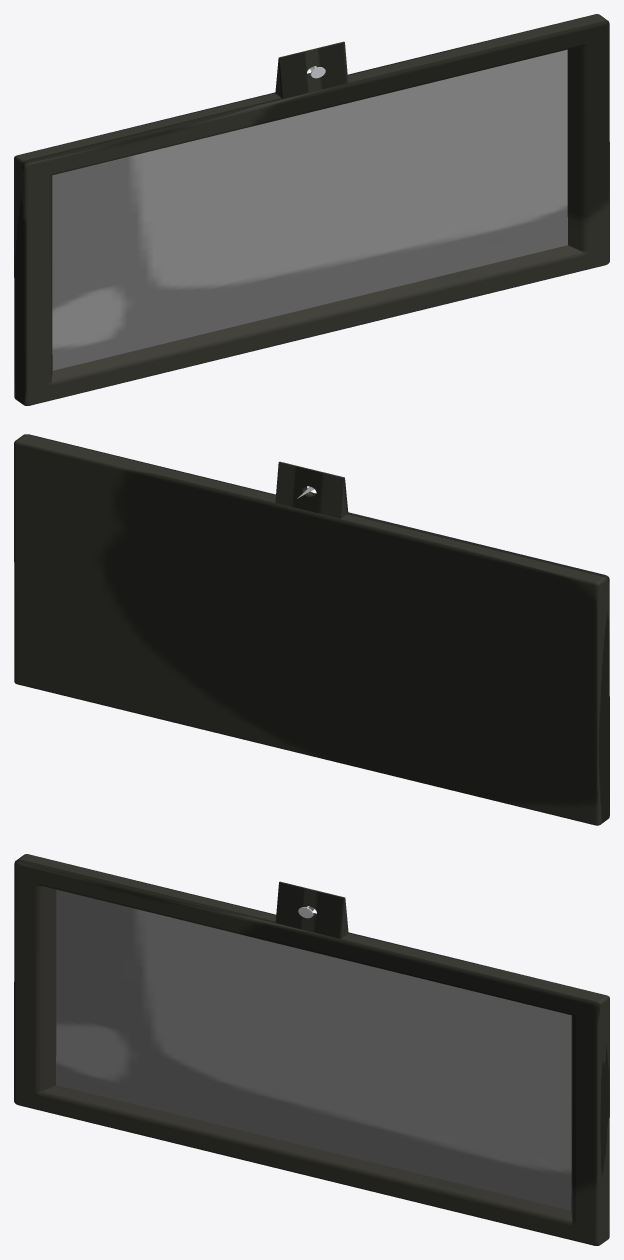
File: item-fraud-mod.glb
3 renders of one model, top to bottom at view 1: azimuth 30°, elevation 25°; view 2: azimuth 150°, elevation 25°; view 3: azimuth 330°, elevation 25°, orthographic.
Bounding box in the file's own units: 25.12 × 11.55 × 1.61.
3 materials, 2 textured.
